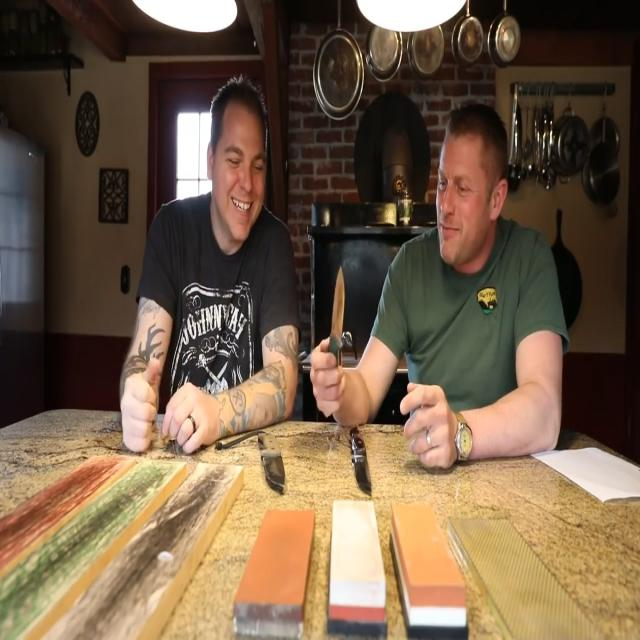knife: (345, 410, 382, 505), (254, 423, 292, 497), (328, 266, 348, 381)
